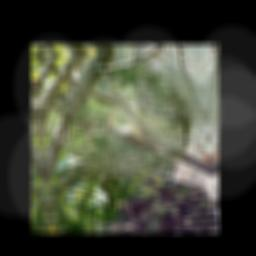Cuckoo: (103, 113, 180, 168)
